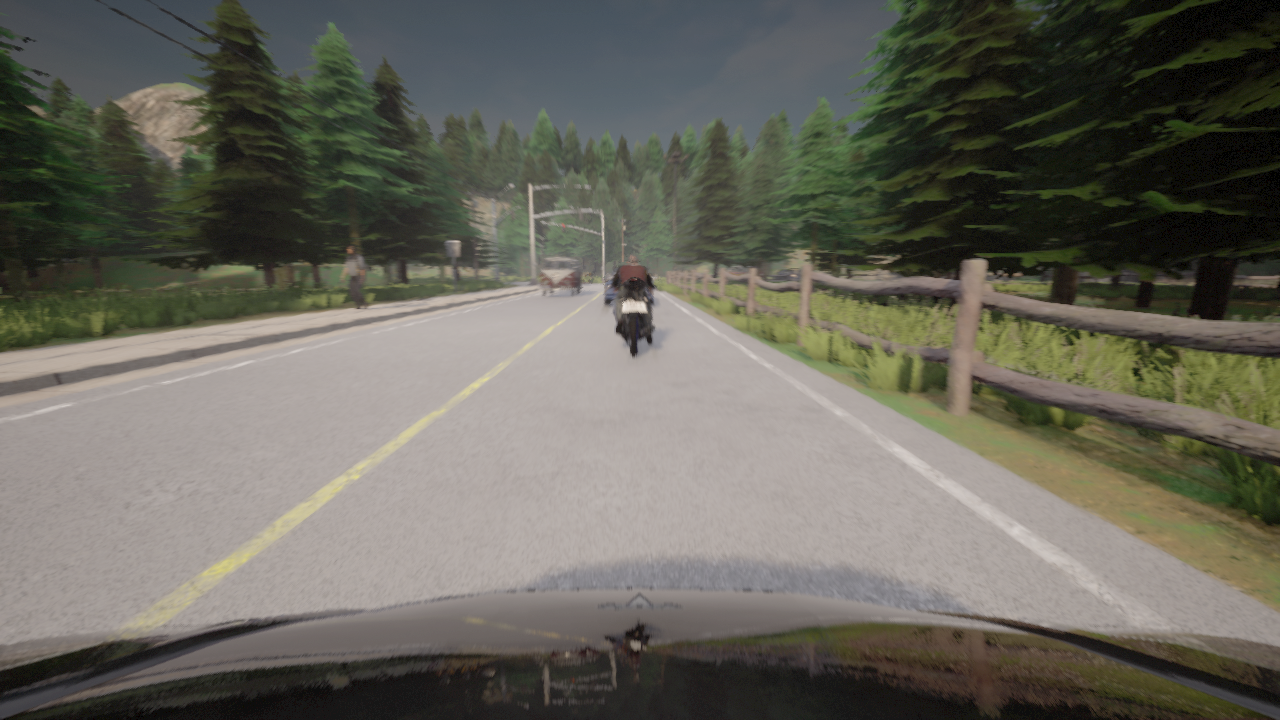cyclist: (0, 588, 1279, 719), (608, 274, 657, 356), (605, 268, 653, 304), (538, 256, 581, 296), (725, 266, 756, 280), (671, 268, 703, 280), (774, 268, 801, 279), (942, 271, 954, 279)
pedestrian: (342, 244, 368, 309)
